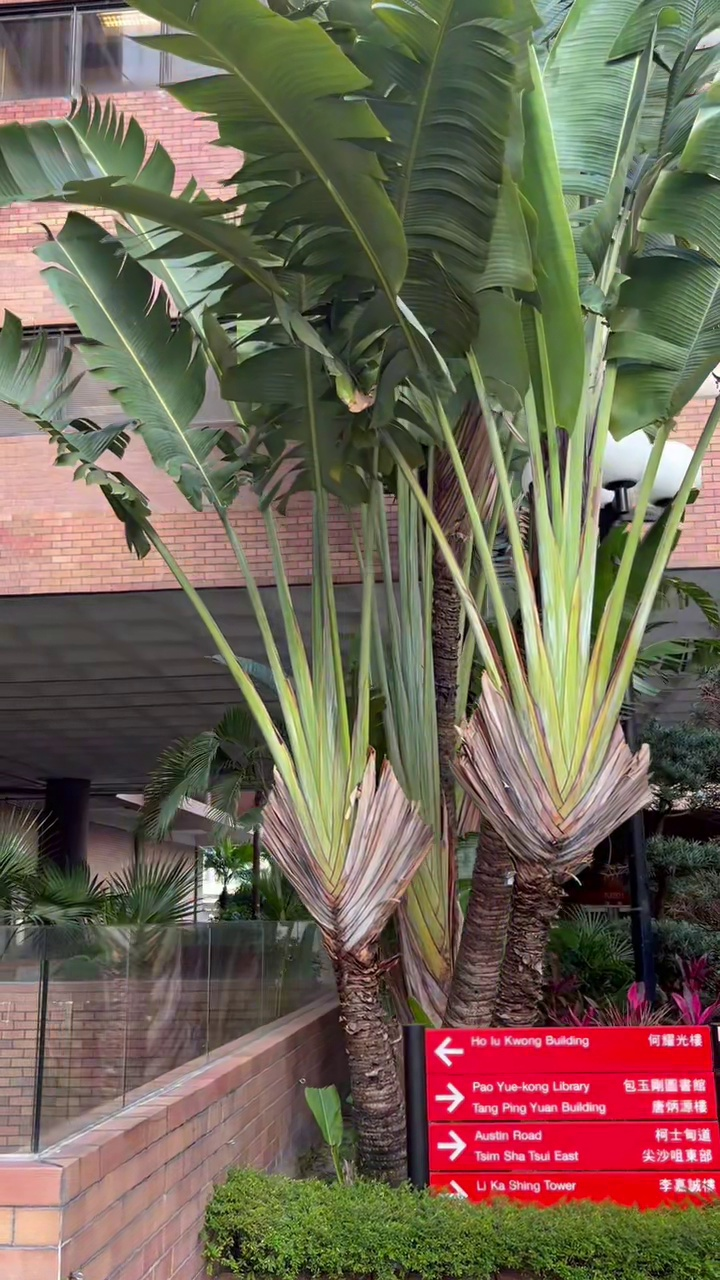Travellers-tree: (0, 0, 719, 1175)
